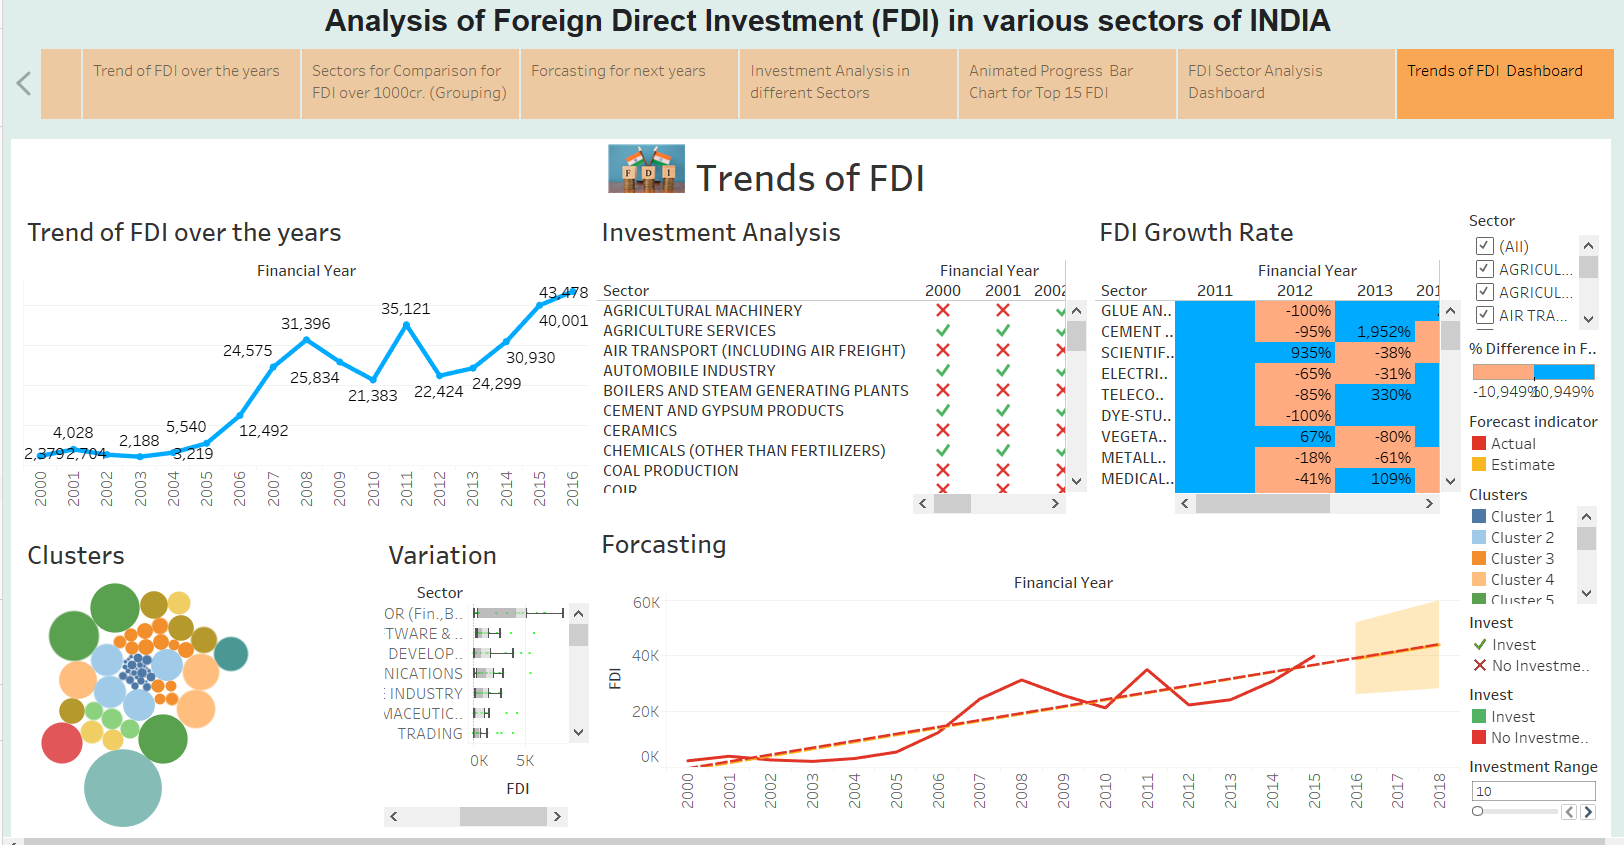

What the dashboard file says about the page in this screenshot:
{"tool":"tableau","page":{"name":"Trends","canvas":[1600,700],"ordinal":1},"visuals":[{"type":"worksheet","box":[0,0,1600,700]},{"type":"worksheet","param":"C:/Users/Abhishek Gupta/Desktop/UPES/A-Previous Sems/Semester-5/Descriptive anal","box":[596.7,5.2,322.8,49]},{"type":"worksheet","param":"vert","box":[8,8,1584,684]},{"type":"worksheet","box":[8,8,1584,59]},{"type":"worksheet","param":"horz","box":[8,67,1584,625]},{"type":"worksheet","box":[8,67,1446,625]},{"type":"worksheet","title":"Trend of FDI","mark":"Automatic","rows":["Pivot Field Values"],"cols":["Calculation_998391793726054400"],"box":[8,67,574,323.3]},{"type":"worksheet","title":"Invest","mark":"Shape","rows":["Sector"],"cols":["Calculation_998391793726054400"],"box":[582,67,498,312.5]},{"type":"worksheet","title":"Growth Rate","mark":"Square","rows":["Sector"],"cols":["Calculation_998391793726054400"],"box":[1080,67,374,312.5]},{"type":"worksheet","param":"vert","box":[1454,67,138,625]},{"type":"worksheet","title":"Trend of FDI","mark":"Automatic","rows":["Pivot Field Values"],"cols":["Calculation_998391793726054400"],"param":"[federated.096dzne0wei7b115pbcn80k0elzj].[none:Sector:nk]","box":[1454,67,138,128.5]},{"type":"worksheet","title":"Growth Rate","mark":"Square","rows":["Sector"],"cols":["Calculation_998391793726054400"],"param":"[federated.096dzne0wei7b115pbcn80k0elzj].[pcdf:sum:Pivot Field Values:qk]","box":[1454,195.5,138,73]},{"type":"worksheet","title":"Forcasting","mark":"Automatic","rows":["Pivot Field Values"],"cols":["Calculation_998391793726054400"],"param":"[federated.096dzne0wei7b115pbcn80k0elzj].[none:Forecast Indicator:nk]","box":[1454,268.5,138,72]},{"type":"worksheet","title":"Clusters","mark":"Circle","param":"[federated.096dzne0wei7b115pbcn80k0elzj].[none:AdhocCluster:1:ok]","box":[1454,340.5,138,128.5]},{"type":"worksheet","title":"Forcasting","mark":"Automatic","rows":["Pivot Field Values"],"cols":["Calculation_998391793726054400"],"box":[582,379.5,872,312.5]},{"type":"worksheet","title":"Clusters","mark":"Circle","box":[8,390.3,361.5,301.7]},{"type":"worksheet","title":"Variations","mark":"Circle","rows":["Sector"],"cols":["Pivot Field Values"],"box":[369.5,390.3,212.5,301.7]},{"type":"worksheet","title":"Invest","mark":"Shape","rows":["Sector"],"cols":["Calculation_998391793726054400"],"param":"[federated.096dzne0wei7b115pbcn80k0elzj].[usr:Calculation_183803213690085376:nk]","box":[1454,469,138,72]},{"type":"worksheet","title":"Invest","mark":"Shape","rows":["Sector"],"cols":["Calculation_998391793726054400"],"param":"[federated.096dzne0wei7b115pbcn80k0elzj].[usr:Calculation_183803213690085376:nk]","box":[1454,541,138,72]},{"type":"worksheet","param":"[Parameters].[Parameter 2]","box":[1454,613,138,79]}]}

Visuals, with their boxes on the page's 1600x700 design canvas (x1, y1, x2, y2). These are canvas units, not pixel positions in the 1624x845 screenshot, which may show the page scaled, cropped or inside an application window:
worksheet: Rect(0, 0, 1600, 700)
worksheet: Rect(597, 5, 920, 54)
worksheet: Rect(8, 8, 1592, 692)
worksheet: Rect(8, 8, 1592, 67)
worksheet: Rect(8, 67, 1592, 692)
worksheet: Rect(8, 67, 1454, 692)
"Trend of FDI" worksheet: Rect(8, 67, 582, 390)
"Invest" worksheet (Shape marks): Rect(582, 67, 1080, 380)
"Growth Rate" worksheet (Square marks): Rect(1080, 67, 1454, 380)
worksheet: Rect(1454, 67, 1592, 692)
"Trend of FDI" worksheet: Rect(1454, 67, 1592, 196)
"Growth Rate" worksheet (Square marks): Rect(1454, 196, 1592, 268)
"Forcasting" worksheet: Rect(1454, 268, 1592, 340)
"Clusters" worksheet (Circle marks): Rect(1454, 340, 1592, 469)
"Forcasting" worksheet: Rect(582, 380, 1454, 692)
"Clusters" worksheet (Circle marks): Rect(8, 390, 370, 692)
"Variations" worksheet (Circle marks): Rect(370, 390, 582, 692)
"Invest" worksheet (Shape marks): Rect(1454, 469, 1592, 541)
"Invest" worksheet (Shape marks): Rect(1454, 541, 1592, 613)
worksheet: Rect(1454, 613, 1592, 692)
